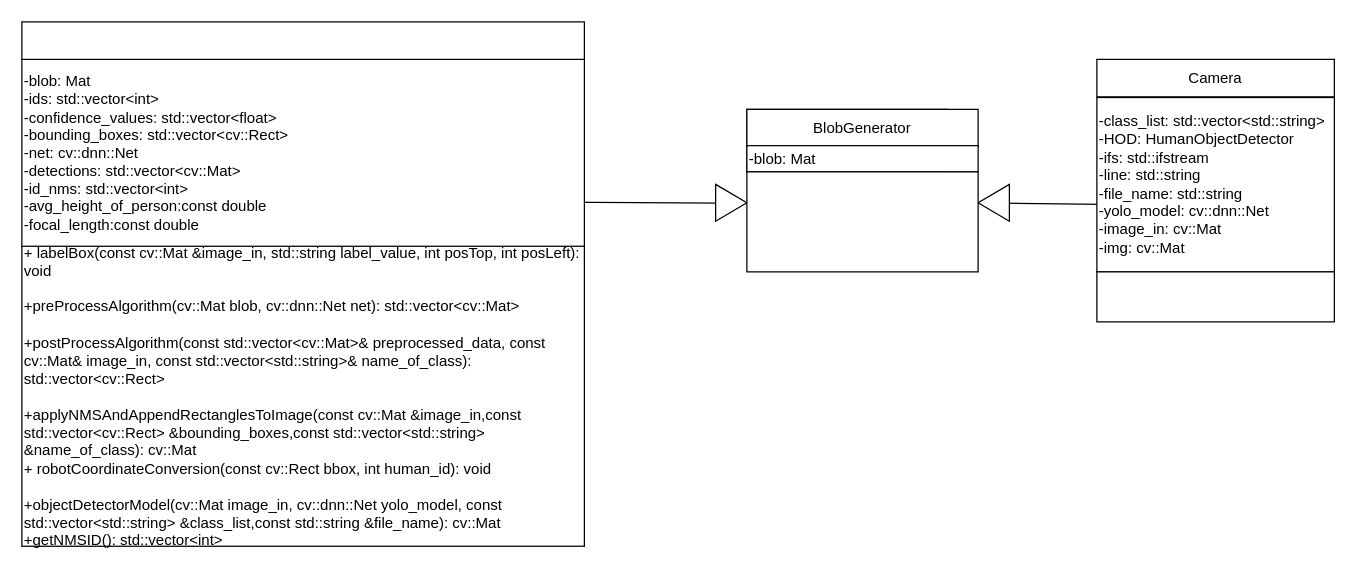
This 1356x571 diagram has some shape labels left out. The centre of each missing label's shape, as x and y in pixels:
"+generateBlobFromImage(const cv::Mat &image_in): void +getBlob(): Mat" belongs at (x=862, y=221).
"+runLiveDetector(bool live): void +getImageInput(): cv::Mat" belongs at (x=1215, y=296).
"HumanObjectDetector" belongs at (x=302, y=40).
